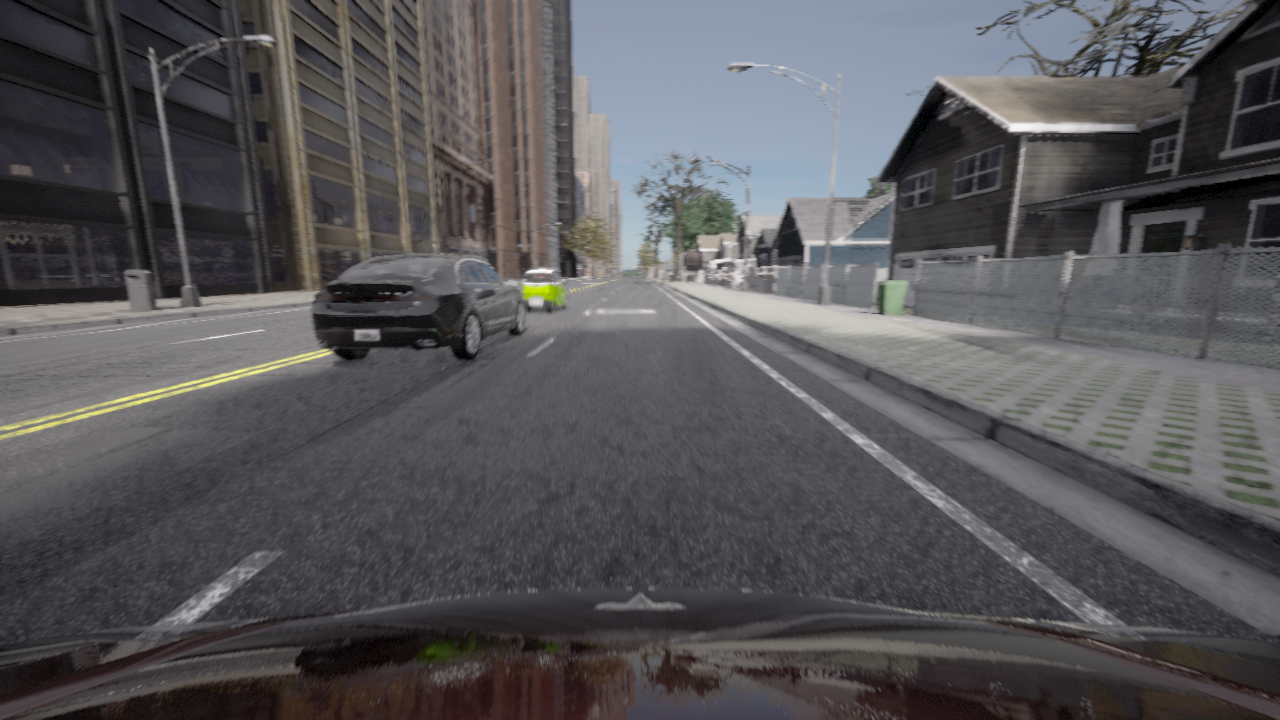cyclist: (0, 588, 1279, 719), (311, 253, 525, 360), (521, 268, 566, 312)
